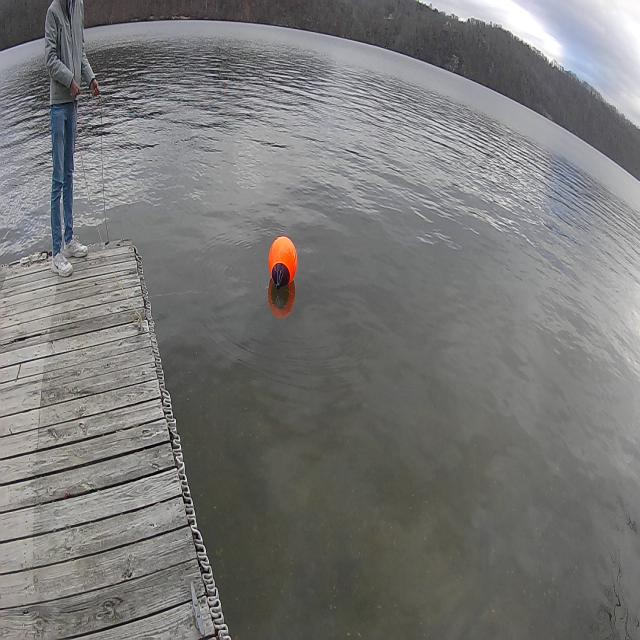Buoy: (264, 230, 304, 300)
